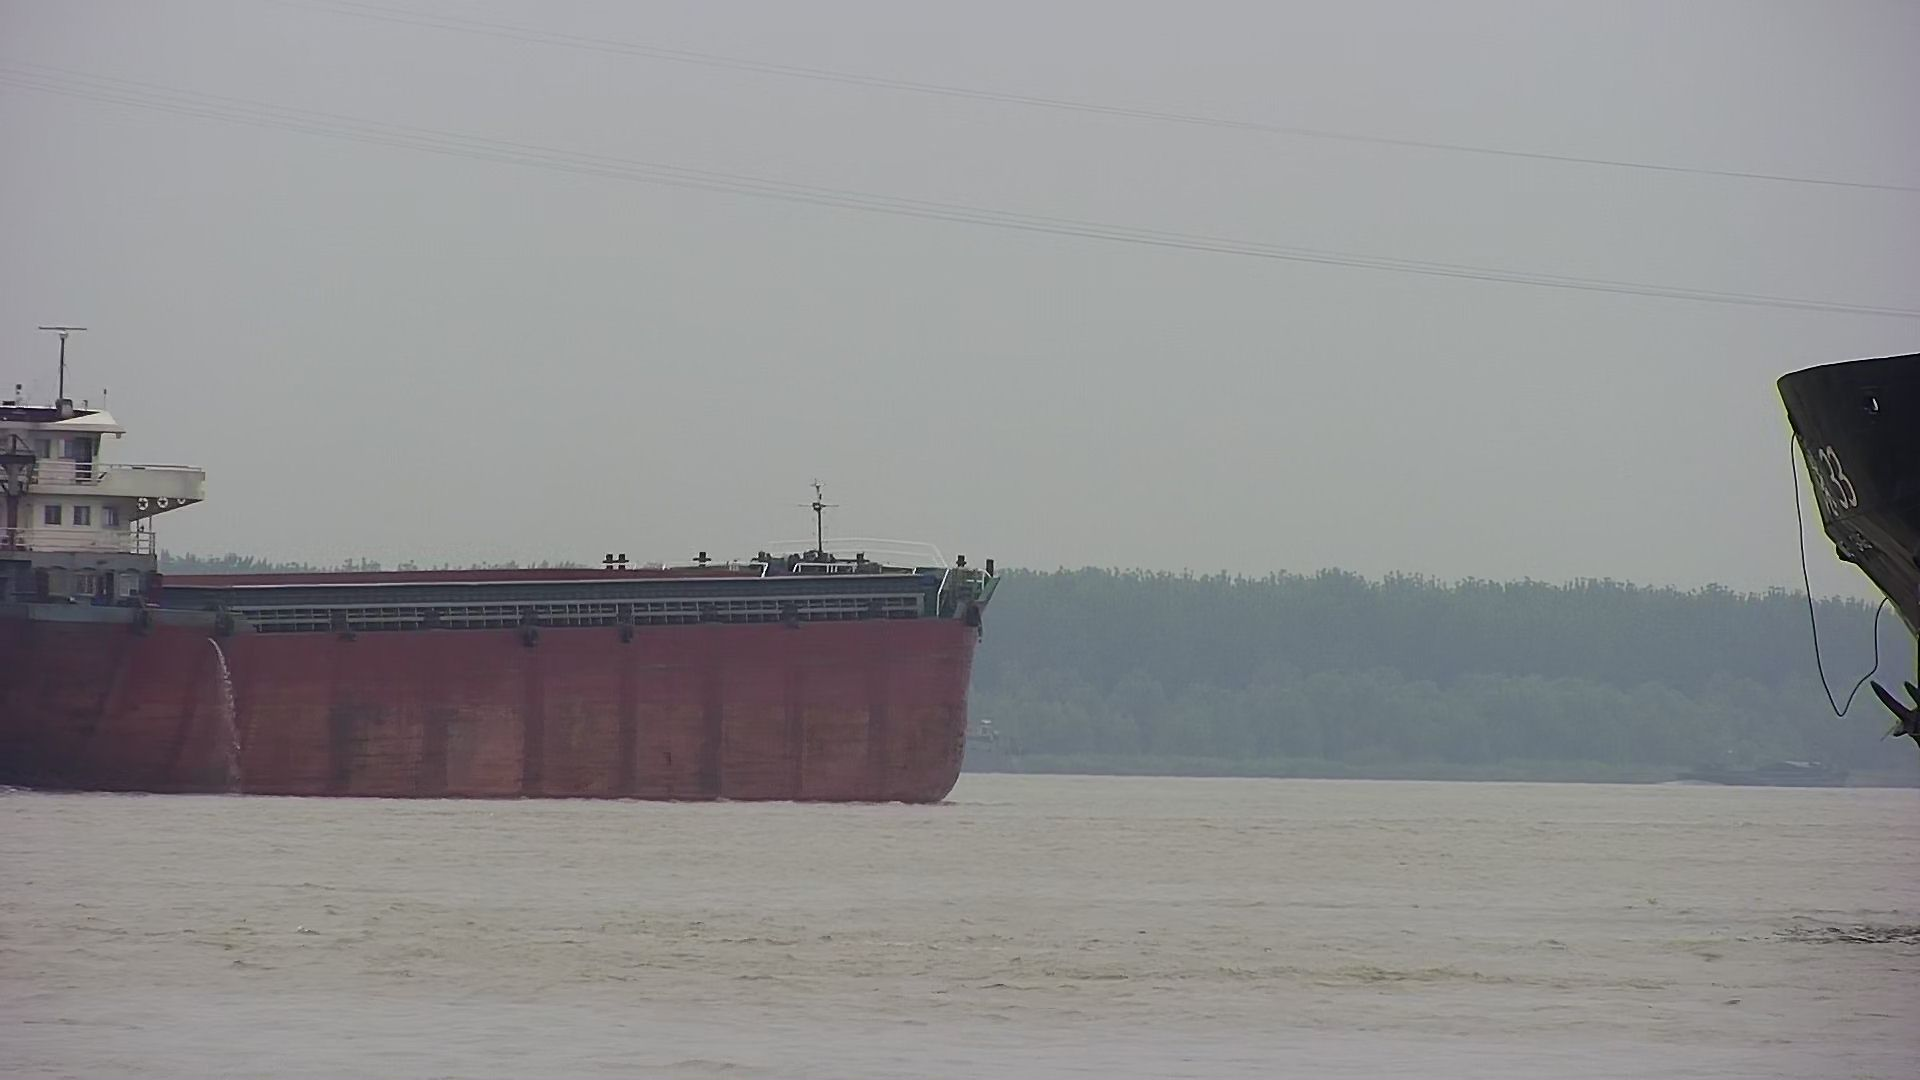ship: (1, 401, 1006, 804), (1778, 351, 1920, 750)
